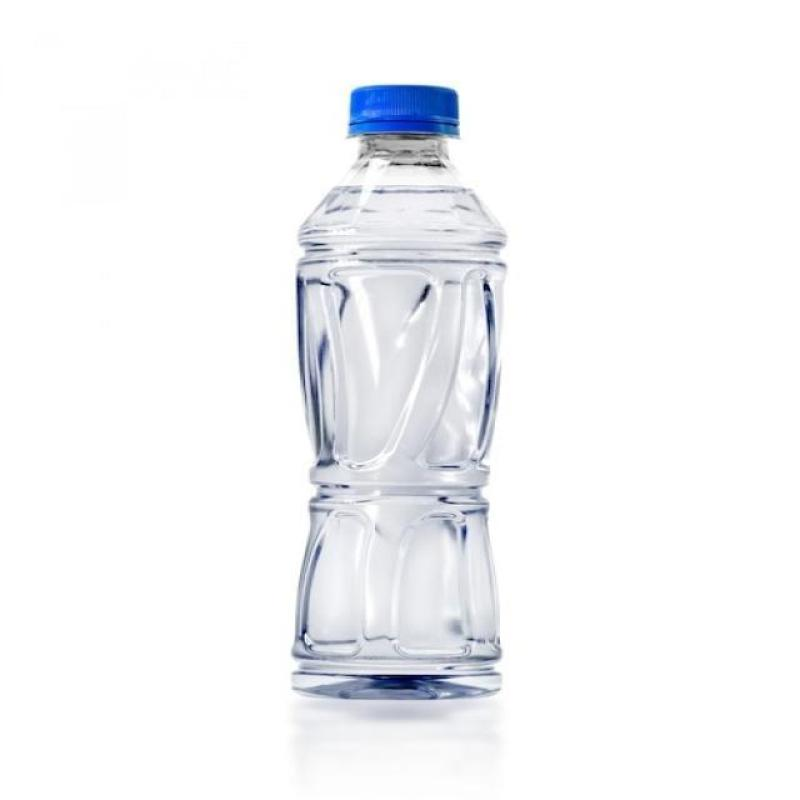botella: (290, 83, 504, 701)
